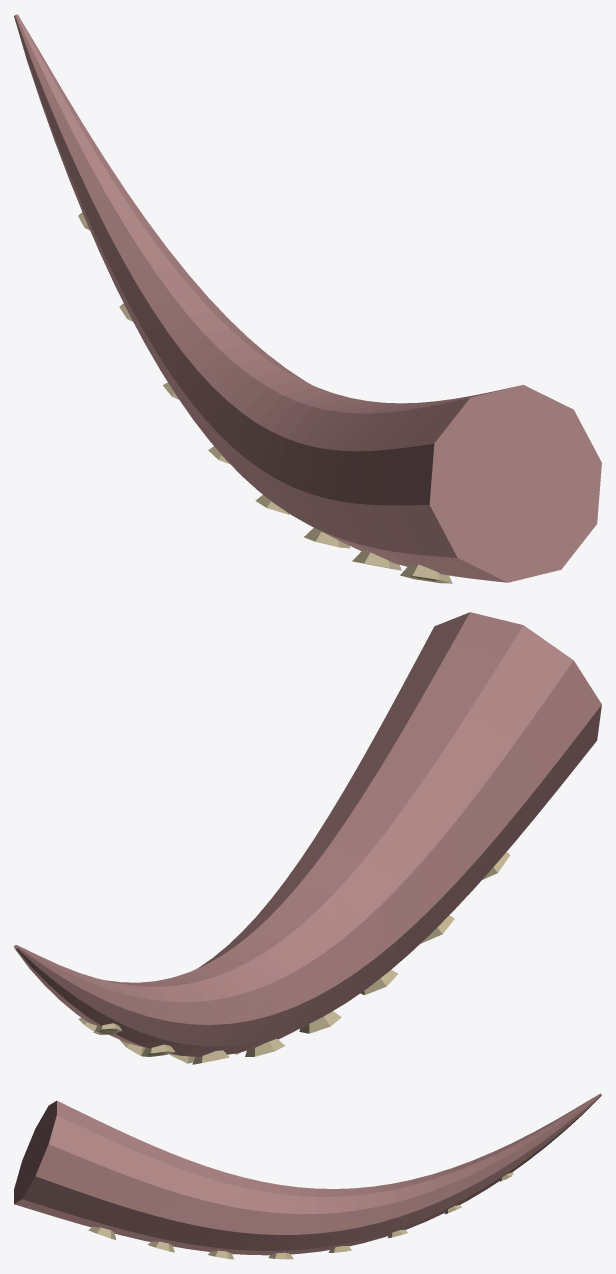
File: kraken_arm_4_01.glb
3 renders of one model, top to bottom at view 1: azimuth 30°, elevation 25°; view 2: azimuth 150°, elevation 25°; view 3: azimuth 270°, elevation 25°, orthographic. The views are drawn at different scales.
Parts seen in each view (by area): view 1: Arm4; view 2: Arm4; view 3: Arm4.
Boxes of the visible parts, x1=… form: Arm4: x1=14, y1=14, x2=601, y2=582; Arm4: x1=14, y1=612, x2=601, y2=1056; Arm4: x1=14, y1=1093, x2=601, y2=1255.
Bounding box in the file's own units: 0.229 × 0.3654 × 1.2.
